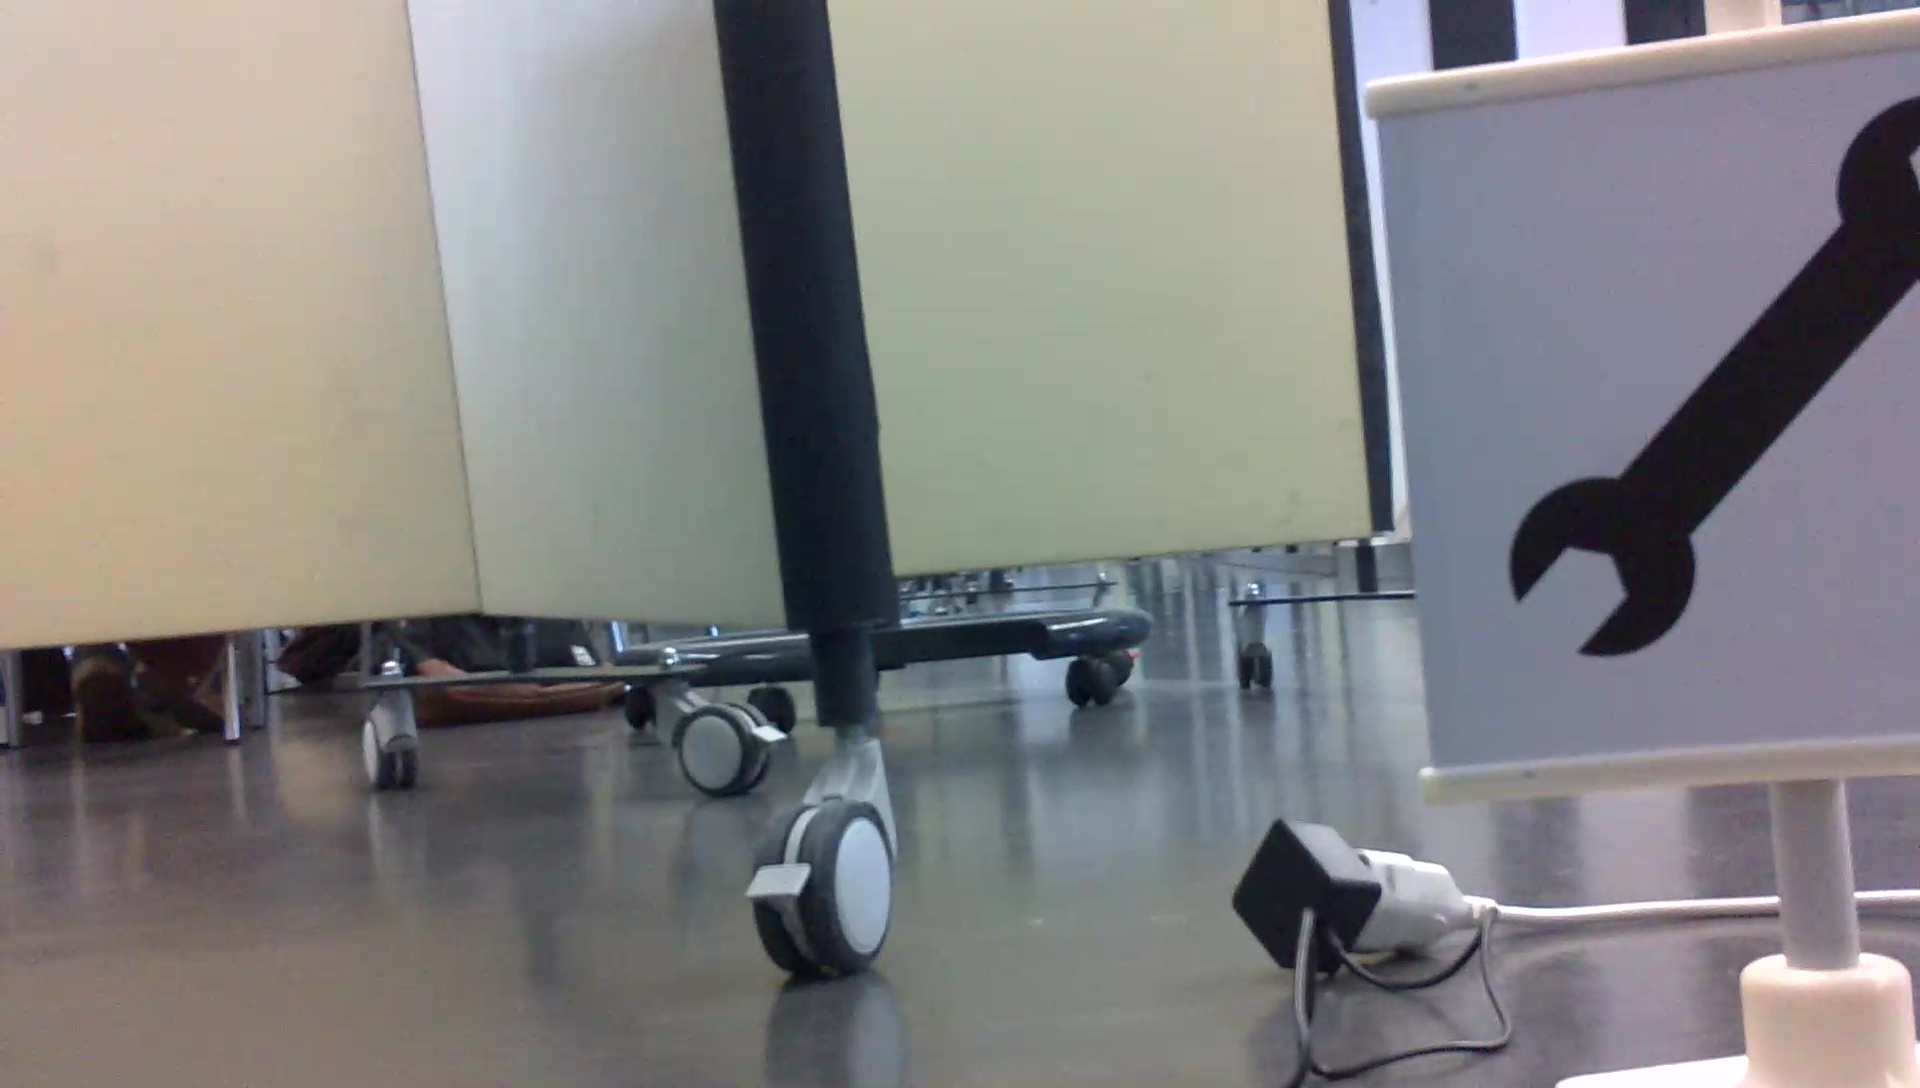wrench: (1499, 88, 1920, 670)
